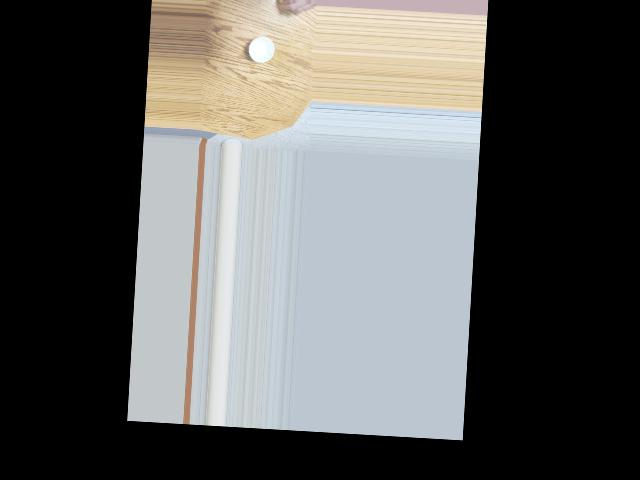cotage: (248, 31, 279, 65)
